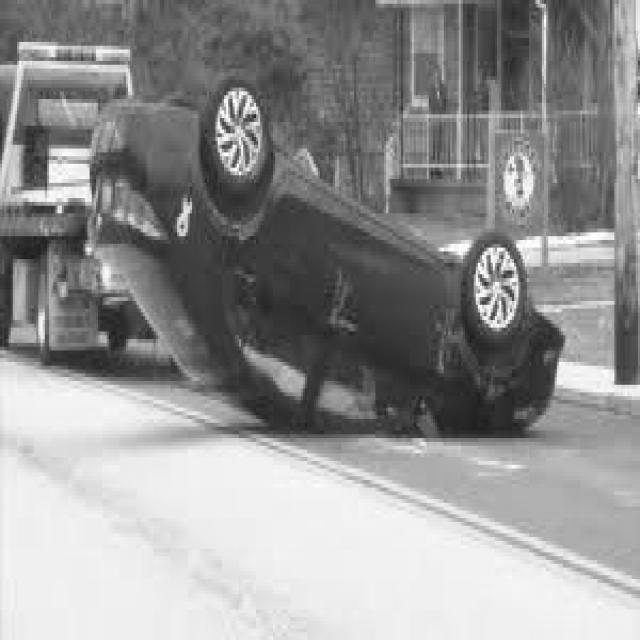accident: (80, 78, 567, 452)
vehicle: (1, 36, 110, 373)
